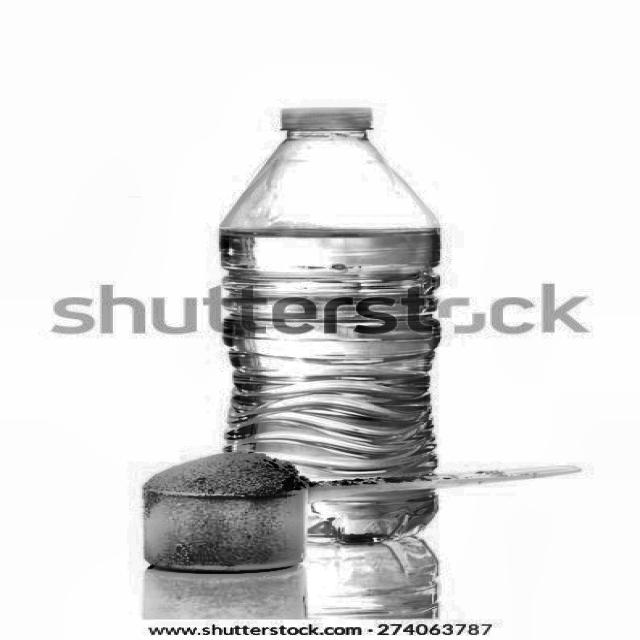waterbottle: (187, 83, 472, 567)
